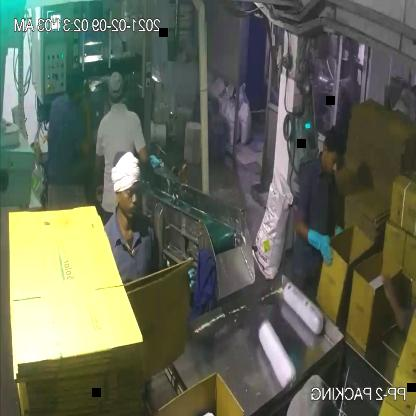glove: (302, 224, 338, 267)
no_glove: (378, 259, 412, 341), (74, 93, 94, 162)
